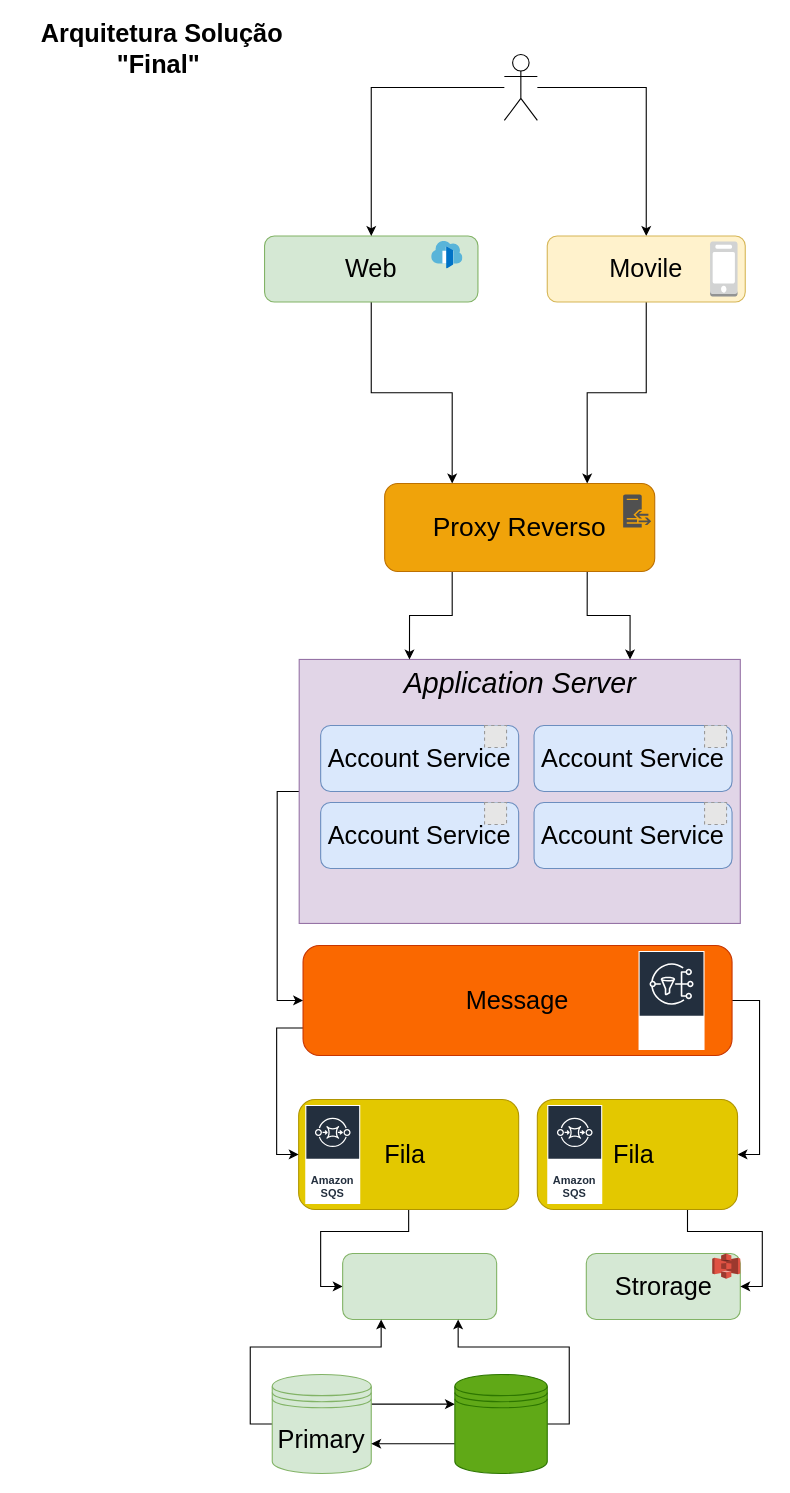
Image size: 790x1493. Some labels were removed from this diagram. Grey dashed boxes stand in for pictures. The centre of each missing label's shape, as x and y in pixels:
Amazon SNS: (671,1000)
Customer: (520,86)
Data Base: (419,1285)
Second: (500,1423)
